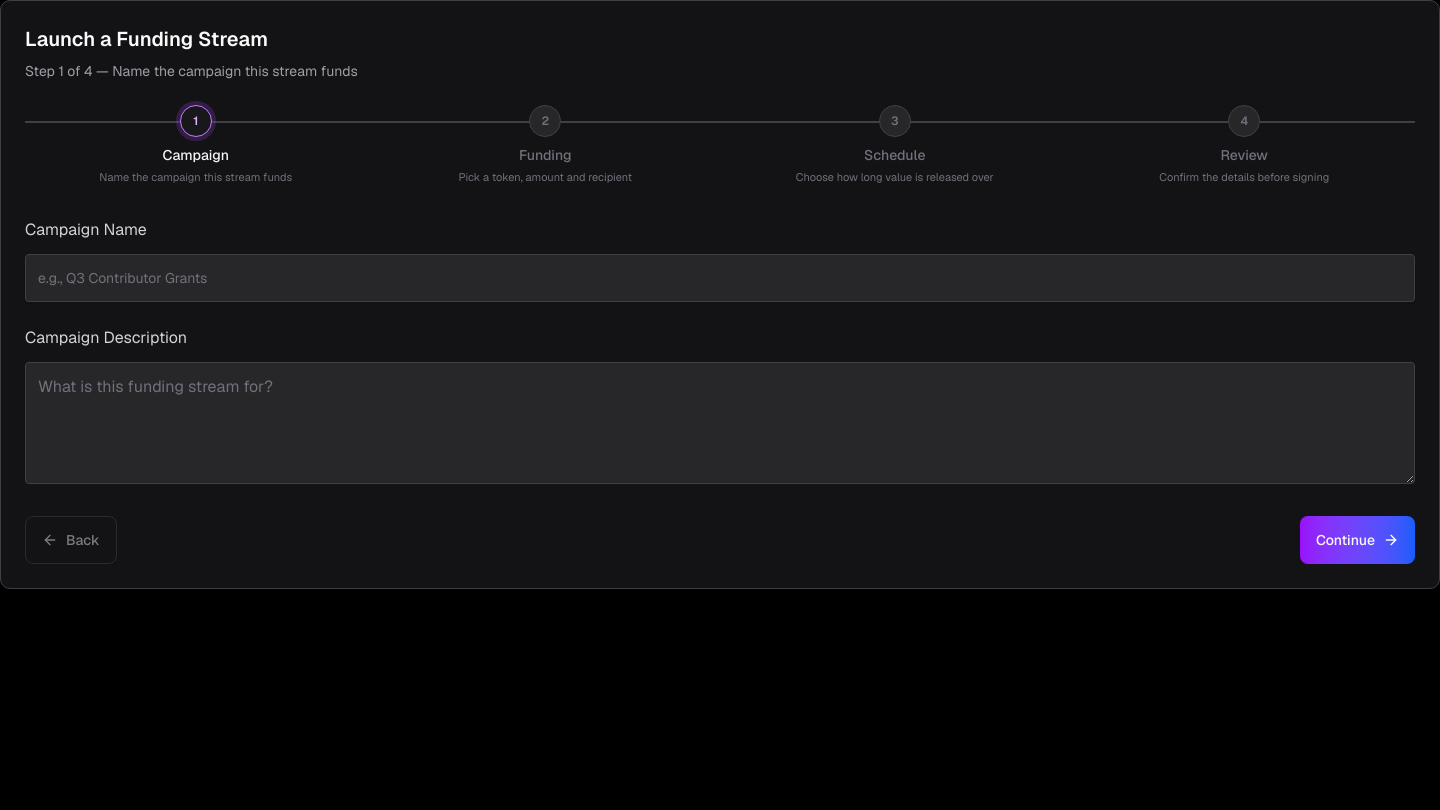
Test: StreamWizard › blocks navigation and surfaces an error when the campaign name is missing
Click the button "Continue": [1357, 540] box [1300,516,1415,564]
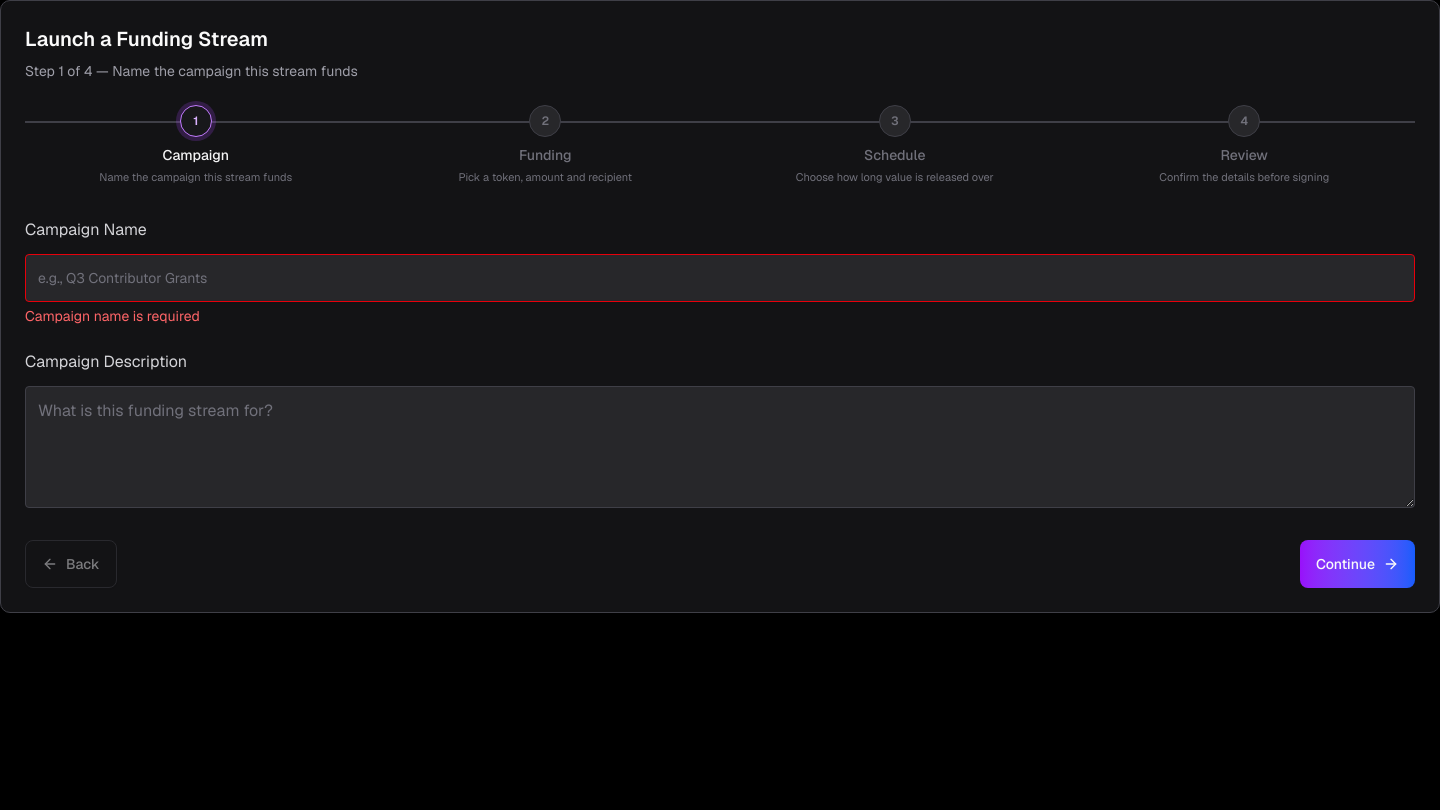
Expected: the text "Step 1 of 4 — Name the campaign this stream funds" is shown, [25,62,358,80]
Expected: the message reads "Campaign name is required", [25,306,200,324]
